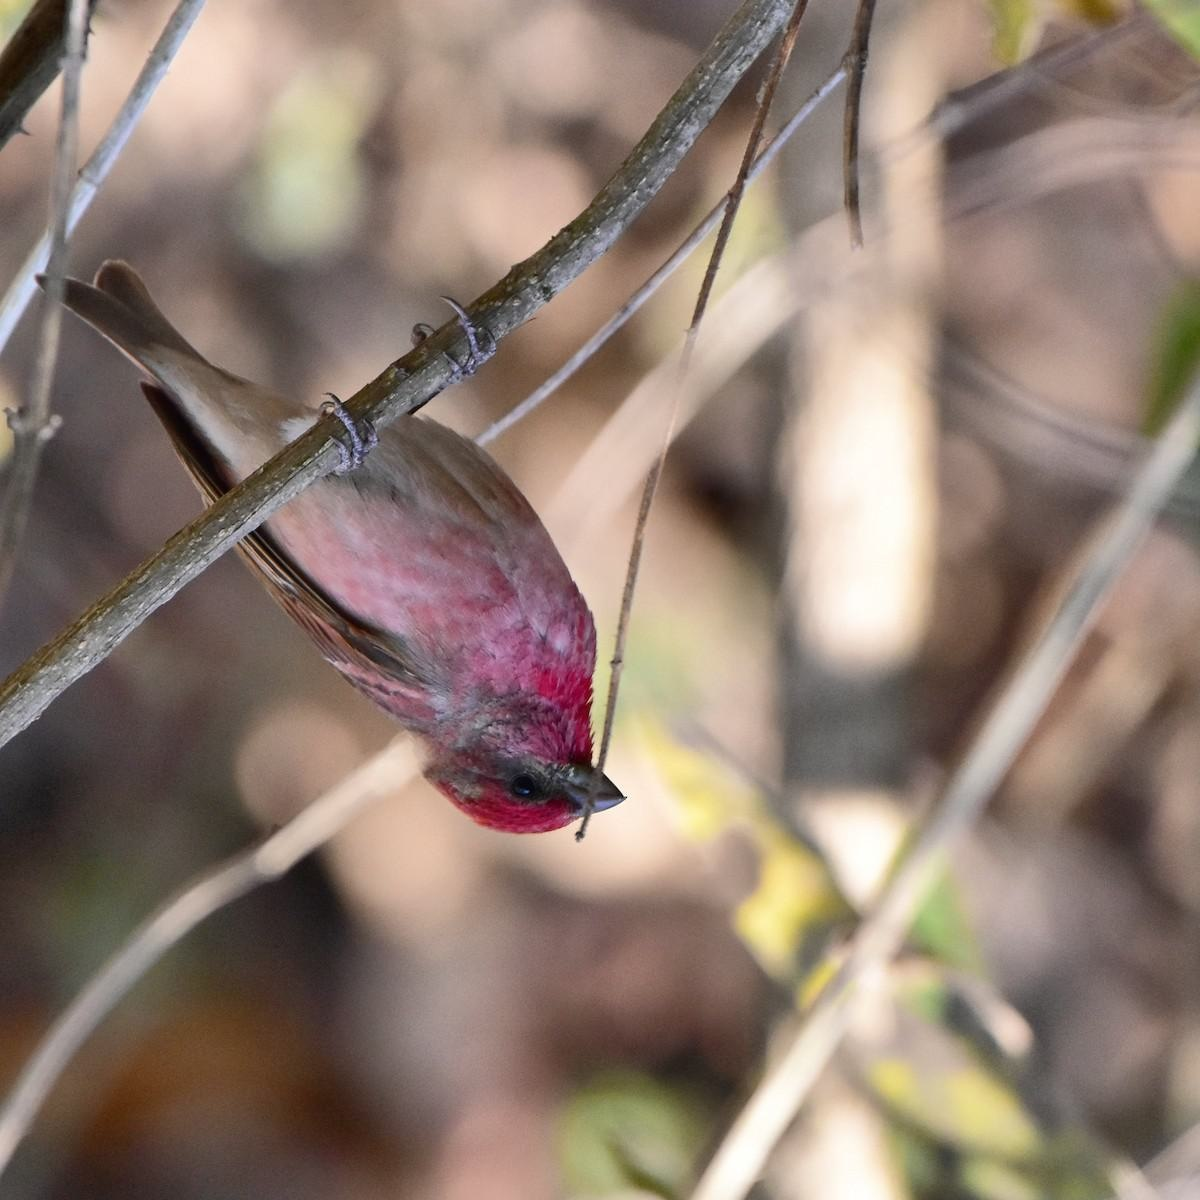rosefinch: (122, 299, 664, 867)
